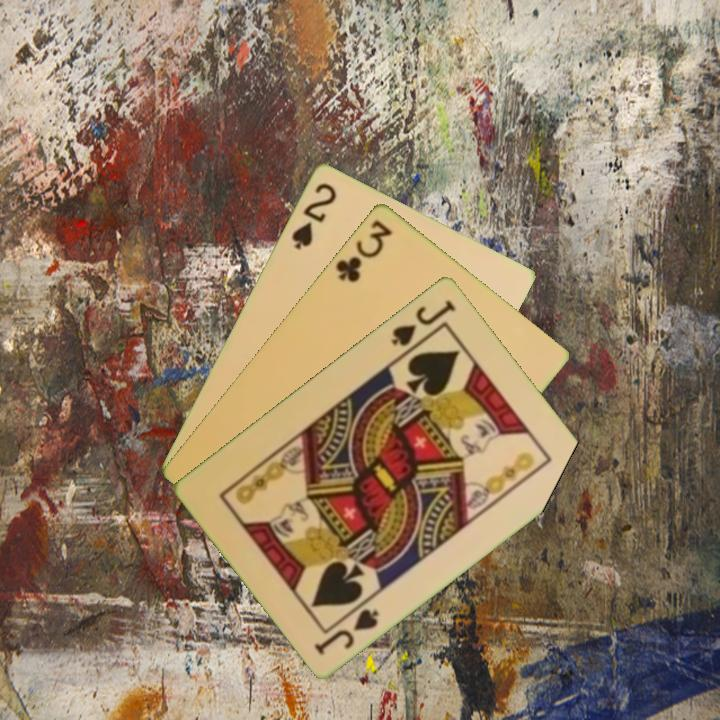2s: (288, 178, 340, 252)
3c: (332, 215, 395, 285)
Js: (387, 295, 459, 349), (310, 604, 382, 657)
